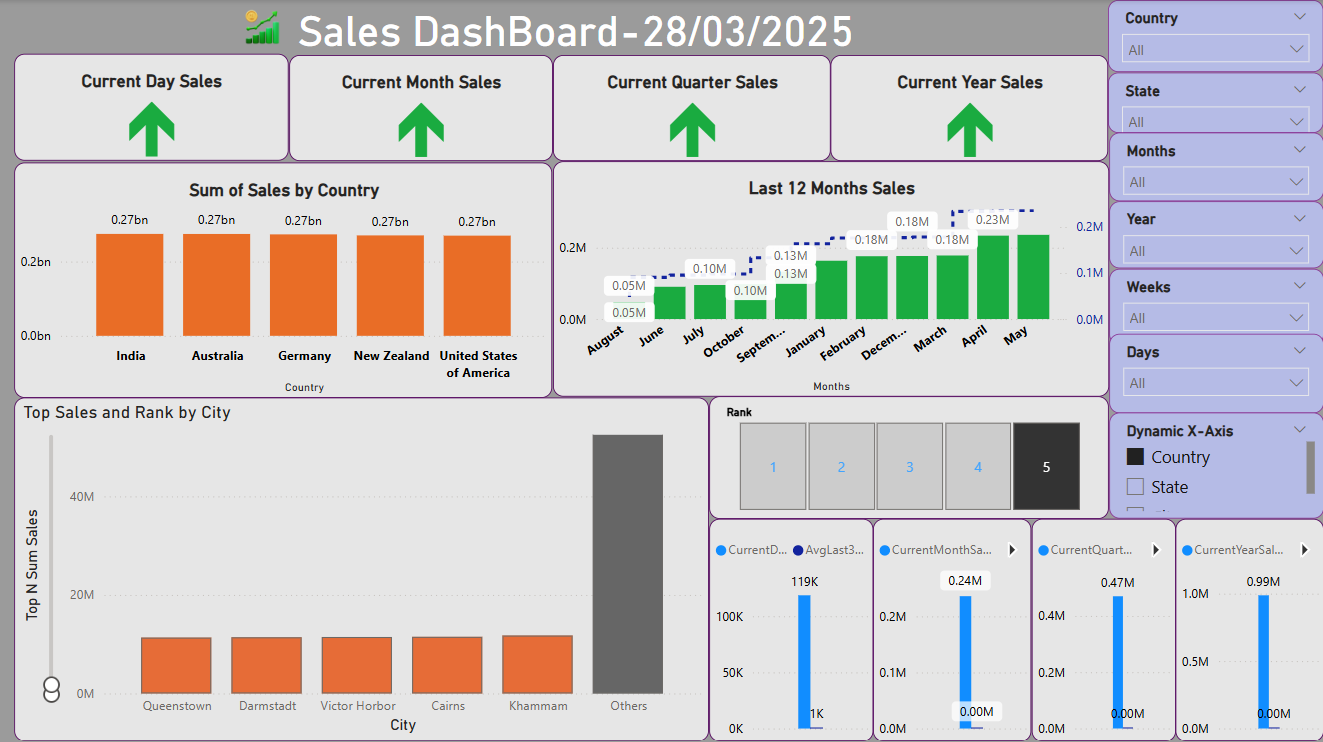

This screenshot's page, from the dashboard's own definition file:
{"tool":"powerbi","page":{"name":"Dashboard","canvas":[1280,720],"ordinal":0},"visuals":[{"type":"card","fields":{"Values":["MeasureTable.Sales DashBoard"]},"box":[194.1,0,727.8,52.8],"z":0},{"type":"slicer","fields":{"Values":["Fact Sales.Country"]},"box":[1071.5,0,208.3,69.4],"z":1000},{"type":"slicer","fields":{"Values":["Fact Sales.State"]},"box":[1071.5,69.4,208.3,58.1],"z":2000},{"type":"slicer","fields":{"Values":["Calender Table.Months"]},"box":[1072.9,127.6,206.9,66.6],"z":3000},{"type":"slicer","fields":{"Values":["Fact Sales.City"]},"box":[2139.9,0,273.7,127.2],"z":4000},{"type":"slicer","fields":{"Values":["Calender Table.Year"]},"box":[1072.9,194.2,206.9,65.2],"z":5000},{"type":"slicer","fields":{"Values":["Calender Table.Weeks"]},"box":[1072.9,259.4,206.9,73.7],"z":6000},{"type":"slicer","fields":{"Values":["Calender Table.Days"]},"box":[1072.9,321.7,206.9,76.5],"z":7000},{"type":"card","title":"Current Day Sales","fields":{"Values":["MeasureTable.Currentv/sPreviousDaySales"]},"box":[15.6,52.4,265,103.5],"z":8000},{"type":"card","title":"Current Month Sales","fields":{"Values":["MeasureTable.CurrentV/sPreviousMonthSales"]},"box":[281.1,52.8,254,102.7],"z":9000},{"type":"card","title":"Current  Quarter Sales","fields":{"Values":["MeasureTable.Currentv/sPreviousQtrSales"]},"box":[535.1,52.8,268.3,102.7],"z":10000},{"type":"card","title":"Current Year Sales","fields":{"Values":["MeasureTable.Currentv/sPreviousYearSales"]},"box":[803.4,52.8,268.3,102.7],"z":11000},{"type":"columnChart","fields":{"Category":["Fact Sales.Country"],"Y":["Sum(Fact Sales.Sales)"]},"box":[15.7,157,519.4,226.9],"z":12000},{"type":"slicer","fields":{"Values":["Dynamic X-Axis.Dynamic X-Axis"]},"box":[1072.9,398.3,206.9,102],"z":13000},{"type":"lineClusteredColumnComboChart","title":"Last 12 Months Sales","fields":{"Y":["MeasureTable.Last12MonthsSales"],"Y2":["MeasureTable.Last12MonthsSales"],"Category":["Fact Sales.Months"]},"box":[535.1,155.5,536.5,226.9],"z":14000},{"type":"clusteredColumnChart","title":"CurrentDaySales v/s AvgLast3DaysSales","fields":{"Y":["MeasureTable.Current Day Sales","MeasureTable.AvgLast3DaysSales"]},"box":[686.4,500.9,158.4,215.5],"z":15000},{"type":"lineClusteredColumnComboChart","title":"CurrentMonthSales v/s AvgPrevious3MonthSale","fields":{"Y":["MeasureTable.CurrentMonthSales","MeasureTable.AvgPrevious3MonthSale"]},"box":[844.8,500.9,152.7,215.5],"z":16000},{"type":"clusteredColumnChart","title":"CurrentQuarterSales v/s Avglast3QtrsSales","fields":{"Y":["MeasureTable.CurrentQuarterSales","MeasureTable.Avglast3QtrsSales"]},"box":[997.8,500.3,138.9,215.4],"z":17000},{"type":"clusteredColumnChart","title":"CurrentYearSales v/s AvgLast3YearSales","fields":{"Y":["MeasureTable.CurrentYearSales","MeasureTable.AvgLast3YearSales"]},"box":[1136.7,500.3,143.1,215.4],"z":18000},{"type":"clusteredColumnChart","title":"Top Sales and Rank by City","fields":{"Category":["Pseudo Cities Table.City"],"Y":["MeasureTable.Top N Sum Sales"]},"box":[15.6,384.1,670.4,331.7],"z":19000},{"type":"slicer","fields":{"Values":["Top N Selection.Value"]},"box":[686.4,382.4,385.3,118.4],"z":20000},{"type":"image","box":[229.2,2.4,51.9,47.1],"z":20002}]}

Visuals, with their boxes in screenshot pixels (x1, y1, x2, y2), scaled from the page's 1280x720 canvas onto the 1323x742 screenshot:
card - MeasureTable.Sales DashBoard: pyautogui.locateOnScreen(201, 0, 953, 54)
slicer - Fact Sales.Country: pyautogui.locateOnScreen(1107, 0, 1322, 72)
slicer - Fact Sales.State: pyautogui.locateOnScreen(1107, 72, 1322, 131)
slicer - Calender Table.Months: pyautogui.locateOnScreen(1109, 131, 1322, 200)
slicer - Calender Table.Year: pyautogui.locateOnScreen(1109, 200, 1322, 267)
slicer - Calender Table.Weeks: pyautogui.locateOnScreen(1109, 267, 1322, 343)
slicer - Calender Table.Days: pyautogui.locateOnScreen(1109, 332, 1322, 410)
"Current Day Sales" card: pyautogui.locateOnScreen(16, 54, 290, 161)
"Current Month Sales" card: pyautogui.locateOnScreen(291, 54, 553, 160)
"Current  Quarter Sales" card: pyautogui.locateOnScreen(553, 54, 830, 160)
"Current Year Sales" card: pyautogui.locateOnScreen(830, 54, 1108, 160)
columnChart - Fact Sales.Country x Sum(Fact Sales.Sales): pyautogui.locateOnScreen(16, 162, 553, 396)
slicer - Dynamic X-Axis.Dynamic X-Axis: pyautogui.locateOnScreen(1109, 410, 1322, 516)
"Last 12 Months Sales" lineClusteredColumnComboChart: pyautogui.locateOnScreen(553, 160, 1108, 394)
"CurrentDaySales v/s AvgLast3DaysSales" clusteredColumnChart: pyautogui.locateOnScreen(709, 516, 873, 738)
"CurrentMonthSales v/s AvgPrevious3MonthSale" lineClusteredColumnComboChart: pyautogui.locateOnScreen(873, 516, 1031, 738)
"CurrentQuarterSales v/s Avglast3QtrsSales" clusteredColumnChart: pyautogui.locateOnScreen(1031, 516, 1175, 738)
"CurrentYearSales v/s AvgLast3YearSales" clusteredColumnChart: pyautogui.locateOnScreen(1175, 516, 1322, 738)
"Top Sales and Rank by City" clusteredColumnChart: pyautogui.locateOnScreen(16, 396, 709, 738)
slicer - Top N Selection.Value: pyautogui.locateOnScreen(709, 394, 1108, 516)
image: pyautogui.locateOnScreen(237, 2, 291, 51)
